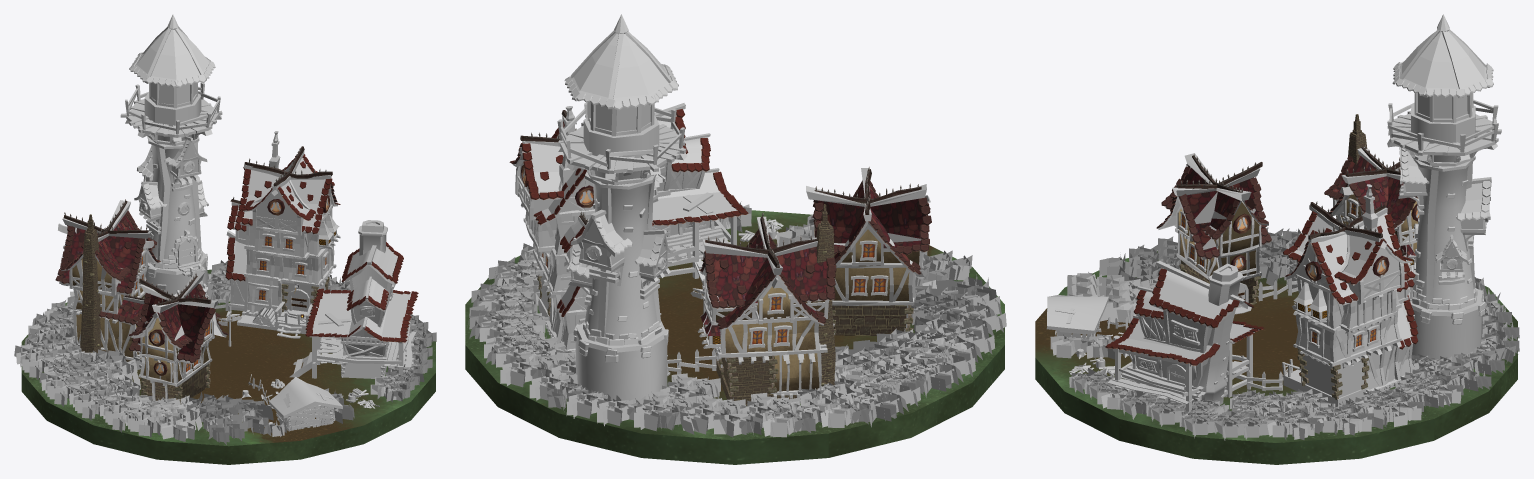
Rendered from village.fbx.
3 renders of one model, left to right at view 1: azimuth 30°, elevation 25°; view 2: azimuth 150°, elevation 25°; view 3: azimuth 270°, elevation 25°, orthographic. The views are drawn at different scales.
Visible parts, largest first — view 1: House3, 10, Cylinder001, 2, Lighthouse; view 2: 10, 2, Lighthouse, Cylinder001, House3; view 3: House3, 10, Lighthouse, Cylinder001, 2.
Part boxes in pixels (bbox=[...]): House3: bbox=[225, 131, 418, 378]; 10: bbox=[14, 260, 436, 444]; Cylinder001: bbox=[21, 269, 435, 464]; 2: bbox=[55, 199, 228, 404]; Lighthouse: bbox=[120, 14, 222, 295]; 10: bbox=[467, 195, 1006, 437]; 2: bbox=[697, 167, 931, 405]; Lighthouse: bbox=[557, 14, 686, 400]; Cylinder001: bbox=[465, 210, 1004, 464]; House3: bbox=[509, 103, 748, 352]; House3: bbox=[1105, 184, 1418, 411]; 10: bbox=[1046, 227, 1519, 440]; Lighthouse: bbox=[1387, 14, 1501, 362]; Cylinder001: bbox=[1035, 236, 1517, 464]; 2: bbox=[1156, 114, 1419, 314].
Size of the model in its own units: 25115 by 20271 by 24813.
